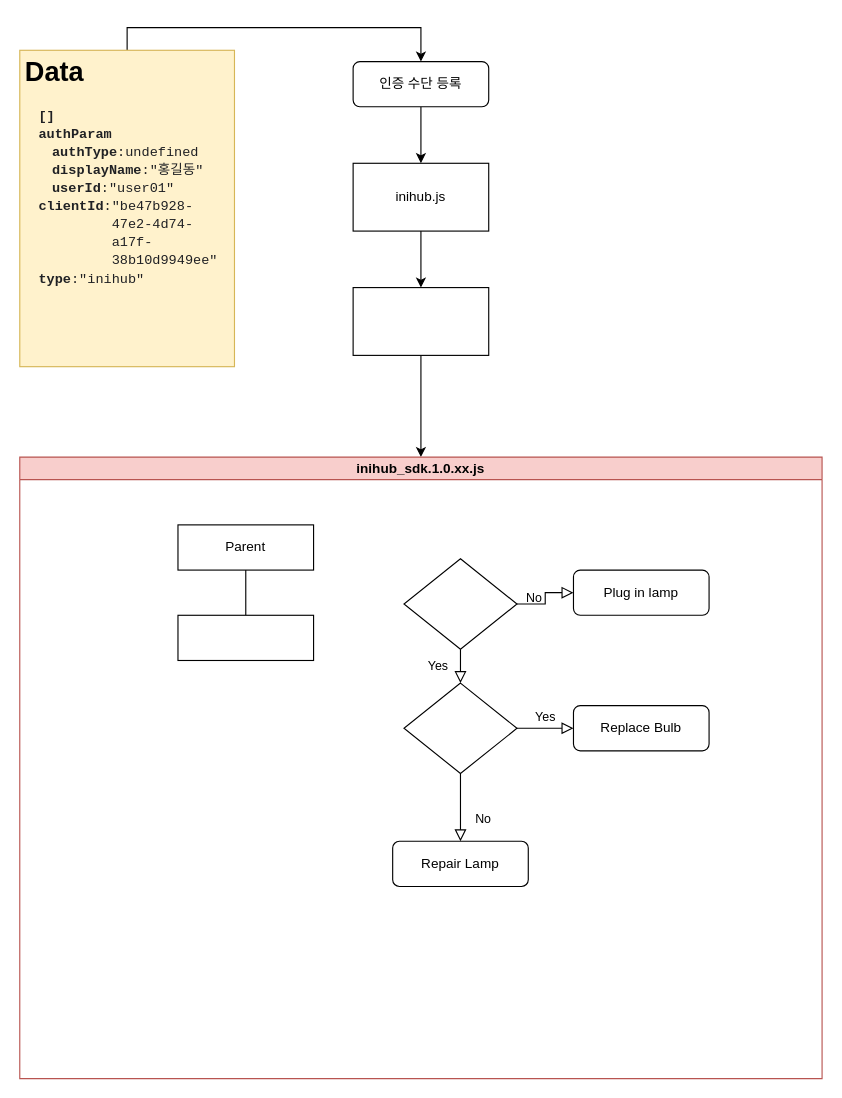
The diagram is 842 pixels wide and 1098 high, and some of its shapes have lost their labels. The shapes that lost their labels are listed below. From the top down, each one's centre as x and y in pixels, then its label:
At point (420, 320): "inihub_iframe.html".
At point (460, 603): "Lamp plugged in?".
At point (245, 637): "Child".
At point (460, 727): "Bulb burned out?".
